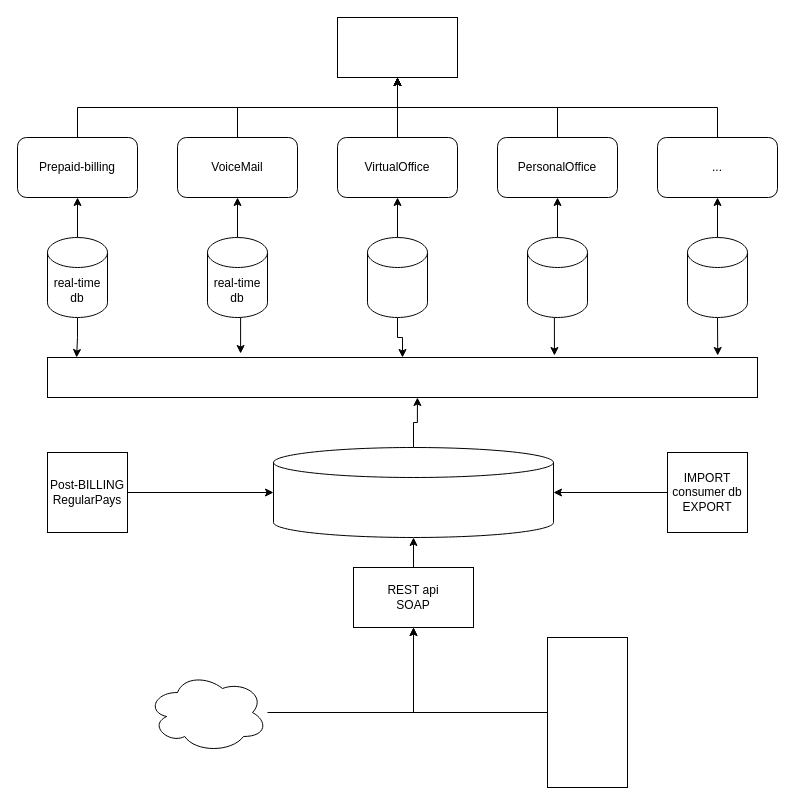
This 795x805 diagram has some shape labels left out. Here are the shapes that lost their labels. From the top down, the centre of each, then its label:
the point at 397,47: Commutator
the point at 402,377: Synchronizer app
the point at 413,492: BIG DB
the point at 207,712: WEB HTTP
the point at 587,712: Mobil Device Applicaions
